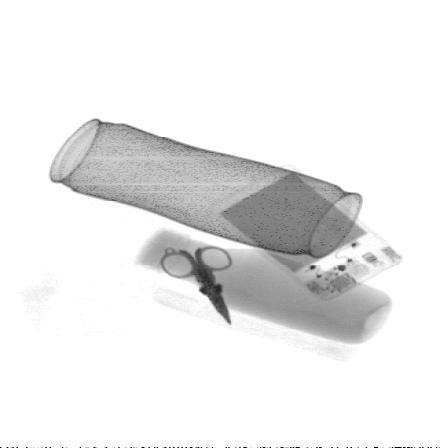Powerbank: (208, 164, 403, 302)
Scissors: (159, 245, 235, 329)
